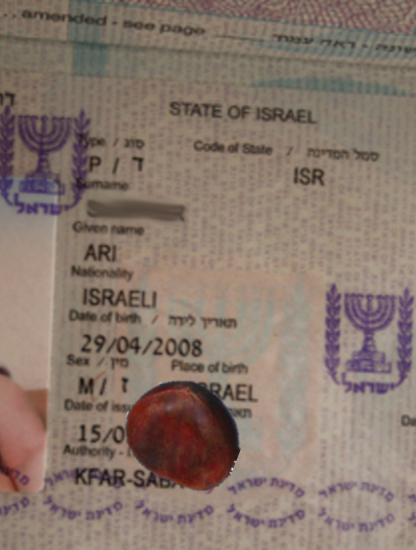Chestnut: (124, 373, 243, 492)
